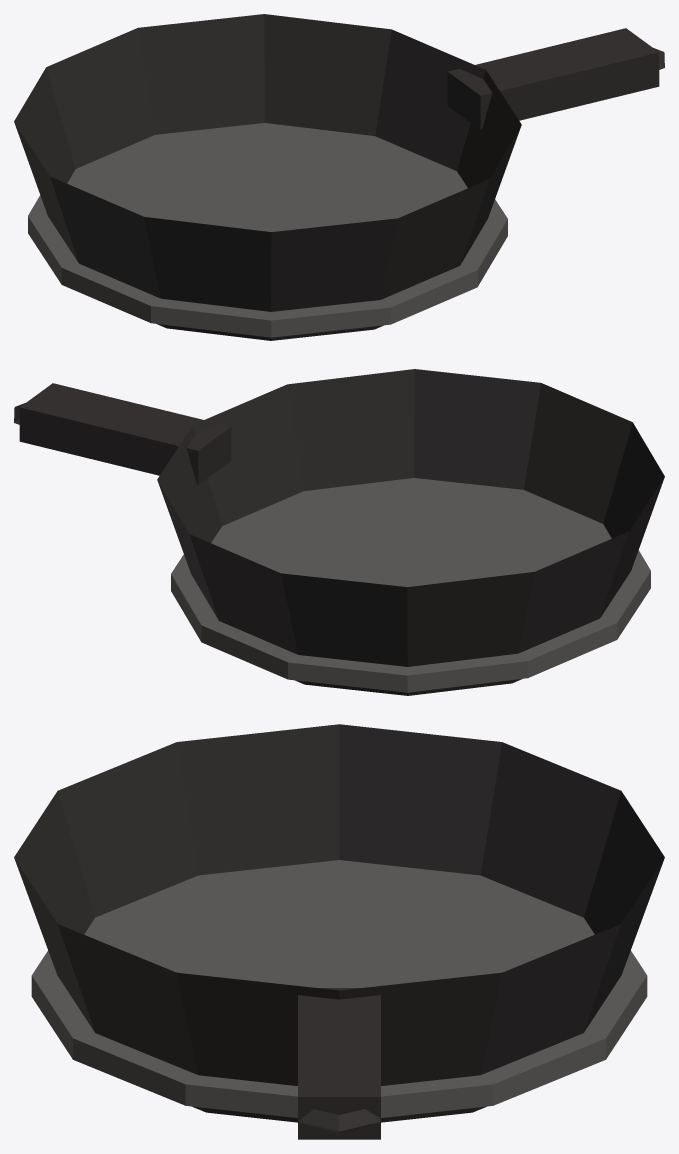
Rendered from Skillet.fbx.
3 views of the same model, one above another, from view 1: azimuth 30°, elevation 25°; view 2: azimuth 150°, elevation 25°; view 3: azimuth 270°, elevation 25° (orthographic). The views are drawn at different scales.
Visible parts, largest first — view 1: Skillet; view 2: Skillet; view 3: Skillet.
Part boxes in pixels (bbox=[...]): Skillet: bbox=[14, 14, 664, 340]; Skillet: bbox=[14, 369, 664, 695]; Skillet: bbox=[14, 724, 664, 1139].
Size of the model in its own units: 1.5 by 0.3 by 1.1.
